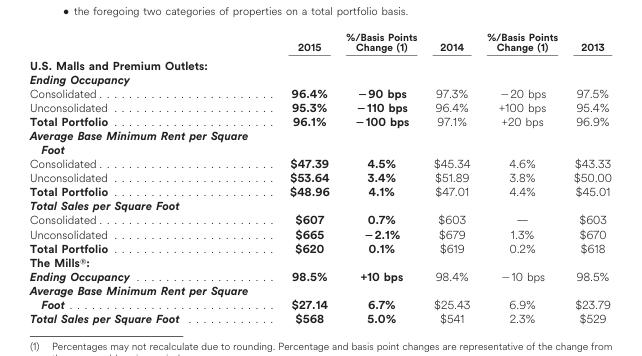table: (28, 28, 611, 324)
table column: (28, 28, 268, 324), (336, 28, 424, 324), (477, 28, 565, 324), (268, 28, 336, 324), (424, 28, 477, 324), (565, 28, 611, 324)
table column header: (28, 28, 611, 54)
table projected row header: (28, 127, 611, 155), (28, 54, 611, 71), (28, 71, 611, 85), (28, 197, 611, 211), (28, 254, 611, 268)
table row: (28, 127, 611, 155), (28, 282, 611, 310), (28, 28, 611, 54), (28, 54, 611, 71), (28, 225, 611, 240), (28, 71, 611, 85), (28, 85, 611, 99), (28, 99, 611, 113), (28, 113, 611, 127), (28, 155, 611, 169), (28, 169, 611, 183), (28, 183, 611, 197), (28, 197, 611, 211), (28, 211, 611, 225), (28, 240, 611, 254), (28, 254, 611, 268), (28, 268, 611, 282), (28, 310, 611, 324)
